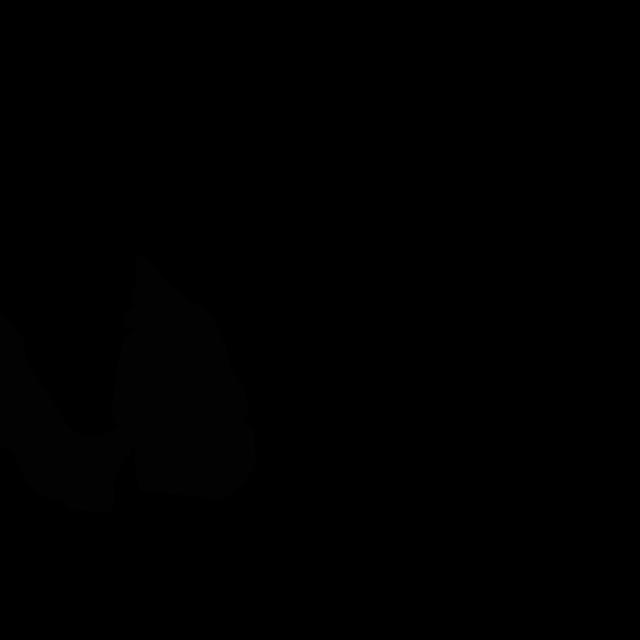cardboard: (112, 254, 256, 500), (0, 308, 136, 513)
